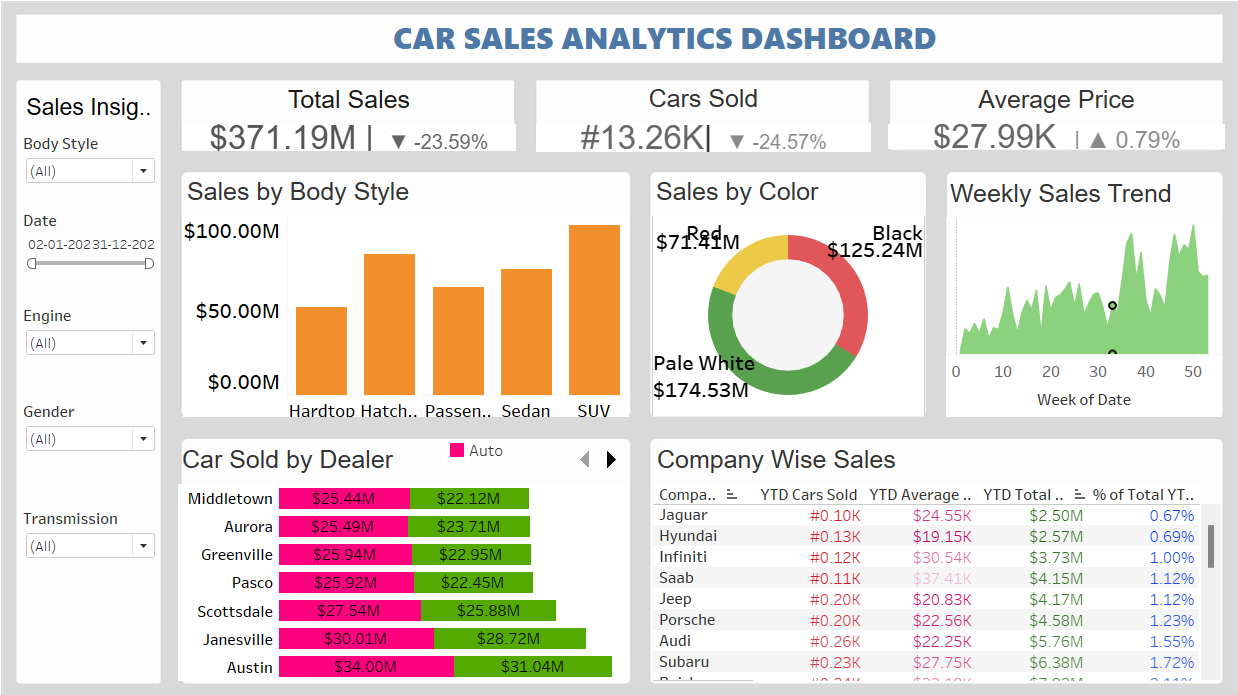

The page's visual inventory and layout, read from the dashboard file:
{"tool":"tableau","page":{"name":"Dashboard 1","canvas":[1280,720],"ordinal":0},"visuals":[{"type":"image","param":"Image/Car Sales Background Tableau.jpg","box":[8,8,1264,704]},{"type":"text","box":[380,25,593,45]},{"type":"worksheet","title":"YTD Cars Sold","mark":"Automatic","box":[556,91,335,72]},{"type":"worksheet","title":"YTD Sales","mark":"Automatic","box":[202,92,334,70]},{"type":"worksheet","title":"YTD Average Price","mark":"Automatic","box":[908,92,337,68]},{"type":"text","box":[39,96,143,44]},{"type":"filter","title":"Sales by style","param":"[federated.0tadxf60jcj20z11uf2h81dd806t].[none:Body Style:nk]","box":[39,140,143,77]},{"type":"worksheet","title":"Sales by style","mark":"Bar","rows":["Calculation_2465580062134329344"],"cols":["Body Style"],"box":[203,184,446,244]},{"type":"worksheet","title":"sales by color","mark":"Pie","rows":["Calculation_2465580062178447372","Calculation_2465580062178541582"],"box":[672,184,273,242]},{"type":"worksheet","title":"Weekly Sales trend","mark":"Area","rows":["Calculation_2465580062134329344"],"cols":["Date"],"box":[966,186,276,242]},{"type":"filter","title":"Sales by style","param":"[federated.0tadxf60jcj20z11uf2h81dd806t].[none:Date:qk]","box":[39,217,143,95]},{"type":"filter","title":"Sales by style","param":"[federated.0tadxf60jcj20z11uf2h81dd806t].[none:Engine:nk]","box":[39,312,143,96]},{"type":"filter","title":"Sales by style","param":"[federated.0tadxf60jcj20z11uf2h81dd806t].[none:Gender:nk]","box":[39,408,143,107]},{"type":"legend","title":"car sold by dealer","param":"[federated.0tadxf60jcj20z11uf2h81dd806t].[none:Transmission:nk]","box":[395,451,251,39]},{"type":"worksheet","title":"car sold by dealer","mark":"Automatic","rows":["Dealer_Region"],"cols":["Calculation_2465580062143967237"],"box":[198,452,451,240]},{"type":"worksheet","title":"Company wise sales","mark":"Automatic","rows":["Company"],"box":[673,452,568,240]},{"type":"blank","box":[66,458,426,240]},{"type":"filter","title":"Sales by style","param":"[federated.0tadxf60jcj20z11uf2h81dd806t].[none:Transmission:nk]","box":[39,515,143,61]}]}

Visuals, with their boxes in screenshot pixels (x1, y1, x2, y2), scaled from the page's 1280x720 canvas onto the 1238x695 screenshot:
image: bbox=[8, 8, 1230, 687]
text: bbox=[368, 24, 941, 68]
"YTD Cars Sold" worksheet: bbox=[538, 88, 862, 157]
"YTD Sales" worksheet: bbox=[195, 89, 518, 156]
"YTD Average Price" worksheet: bbox=[878, 89, 1204, 154]
text: bbox=[38, 93, 176, 135]
"Sales by style" filter: bbox=[38, 135, 176, 209]
"Sales by style" worksheet (Bar marks): bbox=[196, 178, 628, 413]
"sales by color" worksheet (Pie marks): bbox=[650, 178, 914, 411]
"Weekly Sales trend" worksheet (Area marks): bbox=[934, 180, 1201, 413]
"Sales by style" filter: bbox=[38, 209, 176, 301]
"Sales by style" filter: bbox=[38, 301, 176, 394]
"Sales by style" filter: bbox=[38, 394, 176, 497]
"car sold by dealer" legend: bbox=[382, 435, 625, 473]
"car sold by dealer" worksheet: bbox=[192, 436, 628, 668]
"Company wise sales" worksheet: bbox=[651, 436, 1200, 668]
blank: bbox=[64, 442, 476, 674]
"Sales by style" filter: bbox=[38, 497, 176, 556]
